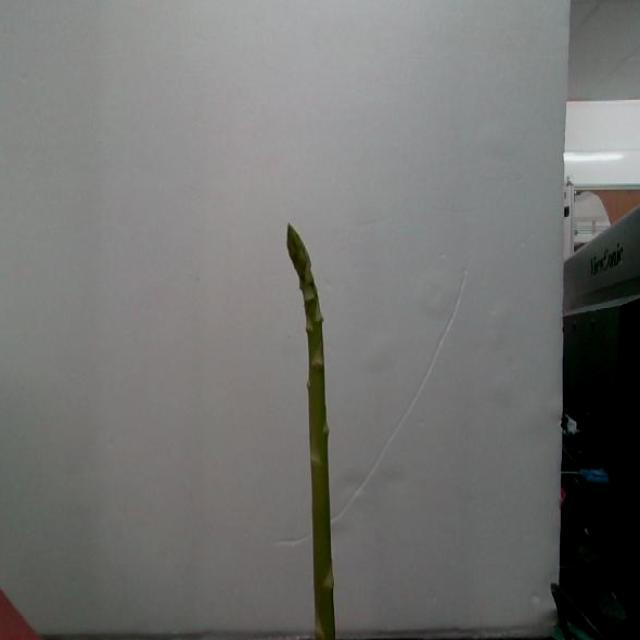aspargus: (283, 227, 335, 640)
